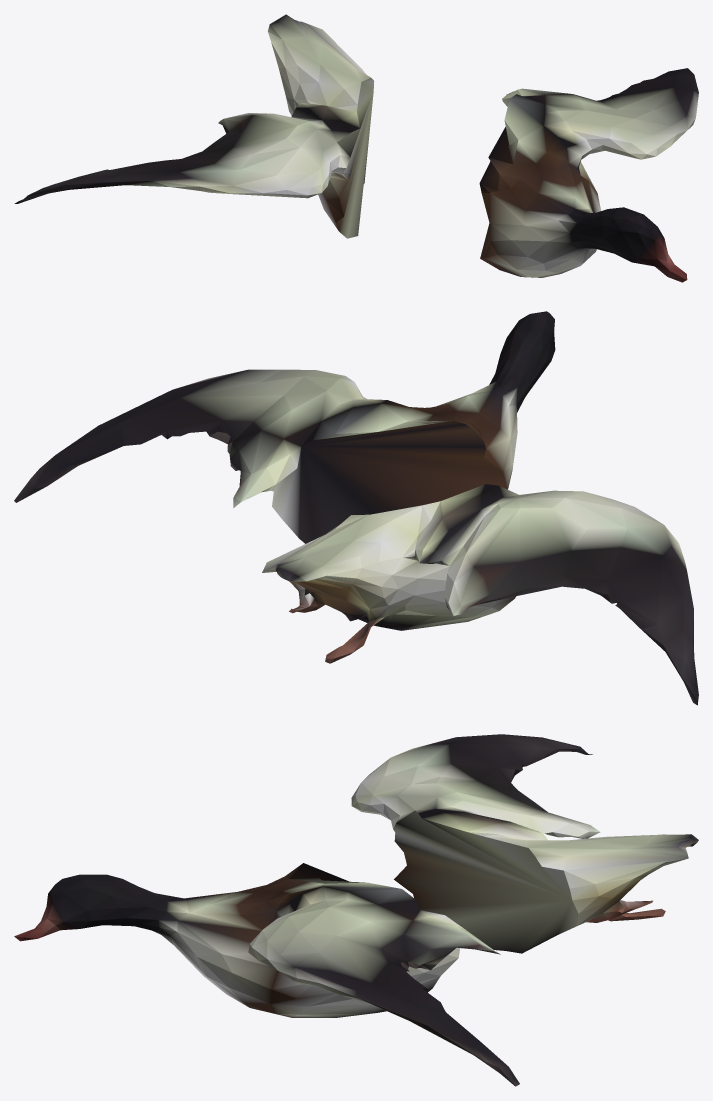
File: Bird_Sliced.fbx
The picture shows the model from 3 angles, top to bottom: view 1: azimuth 30°, elevation 25°; view 2: azimuth 150°, elevation 25°; view 3: azimuth 270°, elevation 25°; orthographic projection. The views are drawn at different scales.
Visible parts, largest first — view 1: Bird_Front, Bird_Back; view 2: Bird_Front, Bird_Back; view 3: Bird_Front, Bird_Back.
Boxes of the visible parts, box(x1,y1,x2,y2) form: Bird_Front: box(479, 68, 698, 282); Bird_Back: box(14, 14, 374, 238); Bird_Front: box(14, 311, 555, 543); Bird_Back: box(262, 484, 698, 705); Bird_Front: box(14, 863, 519, 1086); Bird_Back: box(351, 734, 698, 953).
Size of the model in its own units: 195 by 38.66 by 172.
